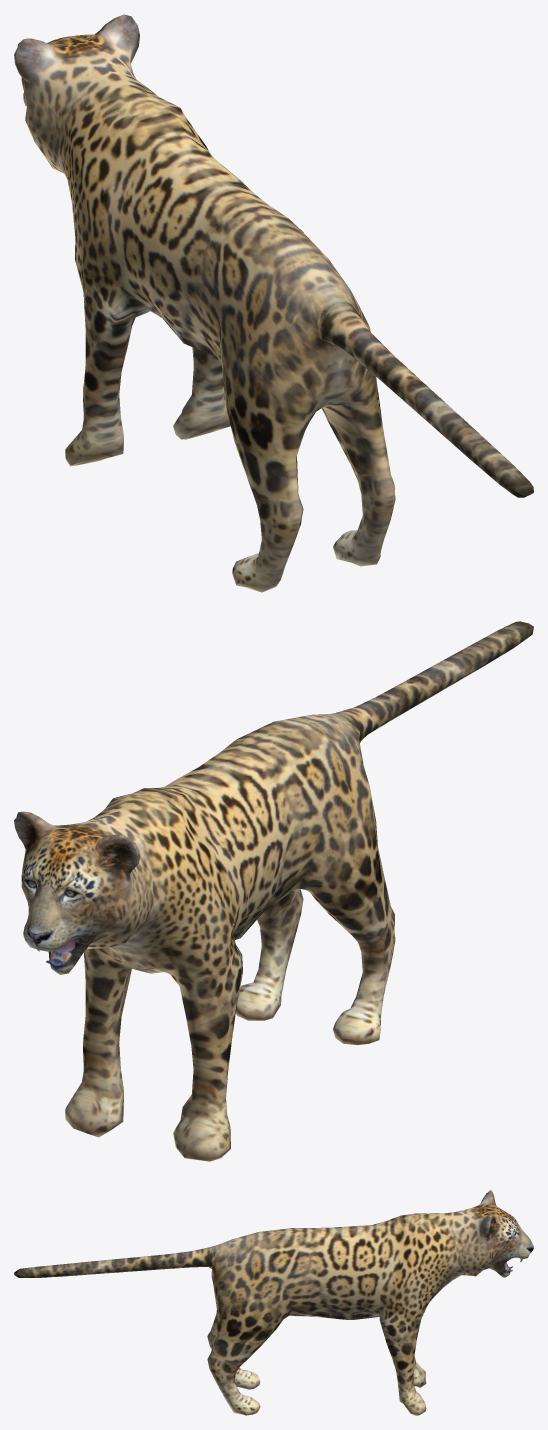
Rendered from Onca.gltf.
3 views of the same model, one above another, from view 1: azimuth 30°, elevation 25°; view 2: azimuth 150°, elevation 25°; view 3: azimuth 270°, elevation 25° (orthographic). The views are drawn at different scales.
Parts seen in each view (by area): view 1: Onca; view 2: Onca; view 3: Onca.
Part boxes in pixels (x1,y1,x2,y2): Onca: (14,14,533,592); Onca: (14,621,533,1161); Onca: (14,1190,533,1415).
Size of the model in its own units: 0.5392 by 1.18 by 2.84.
Materials: 1 (1 with a texture image).
